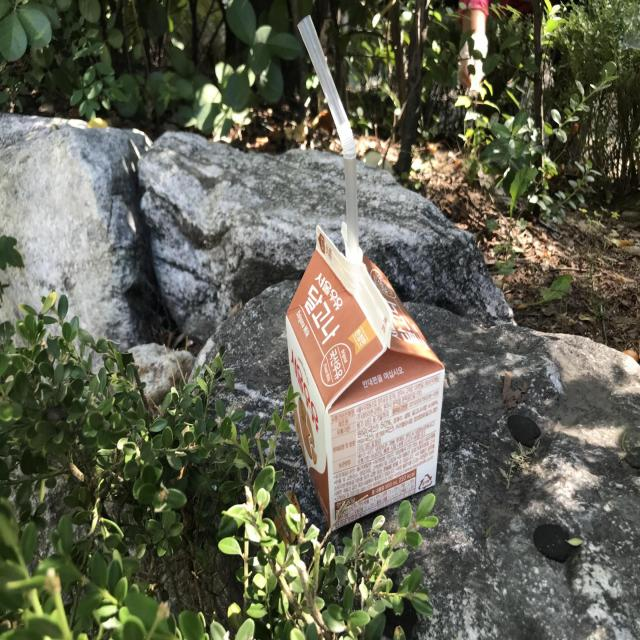paperpack: (286, 225, 445, 528)
